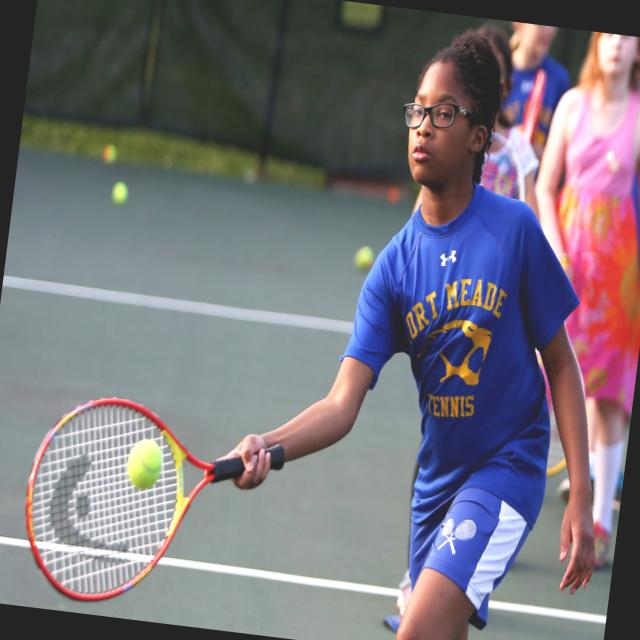Tennis Ball: (122, 436, 164, 491), (354, 246, 373, 275), (102, 143, 118, 171), (108, 181, 128, 203)
